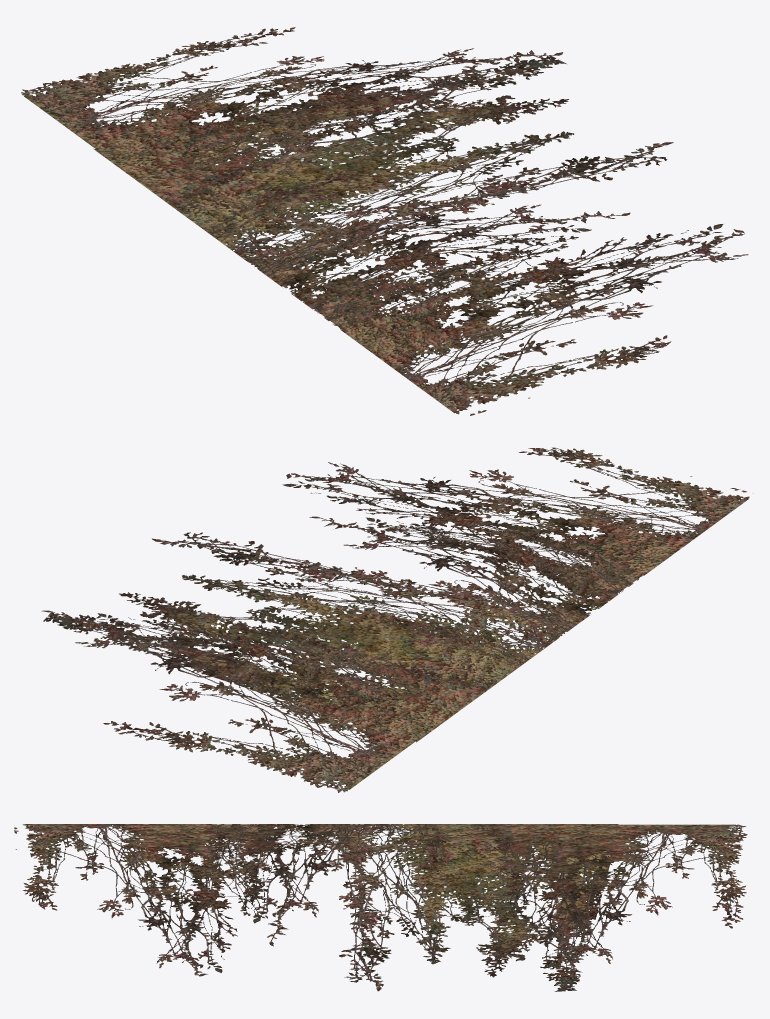
File: vine2.fbx
3 renders of one model, top to bottom at view 1: azimuth 30°, elevation 25°; view 2: azimuth 150°, elevation 25°; view 3: azimuth 270°, elevation 25°, orthographic. The views are drawn at different scales.
Parts seen in each view (by area): view 1: vine_02.object; view 2: vine_02.object; view 3: vine_02.object.
Part boxes in pixels (x1,y1,x2,y2): vine_02.object: (21, 27, 748, 415); vine_02.object: (41, 447, 749, 792); vine_02.object: (14, 824, 747, 991).
Size of the model in its own units: 300 by 17 by 503.
